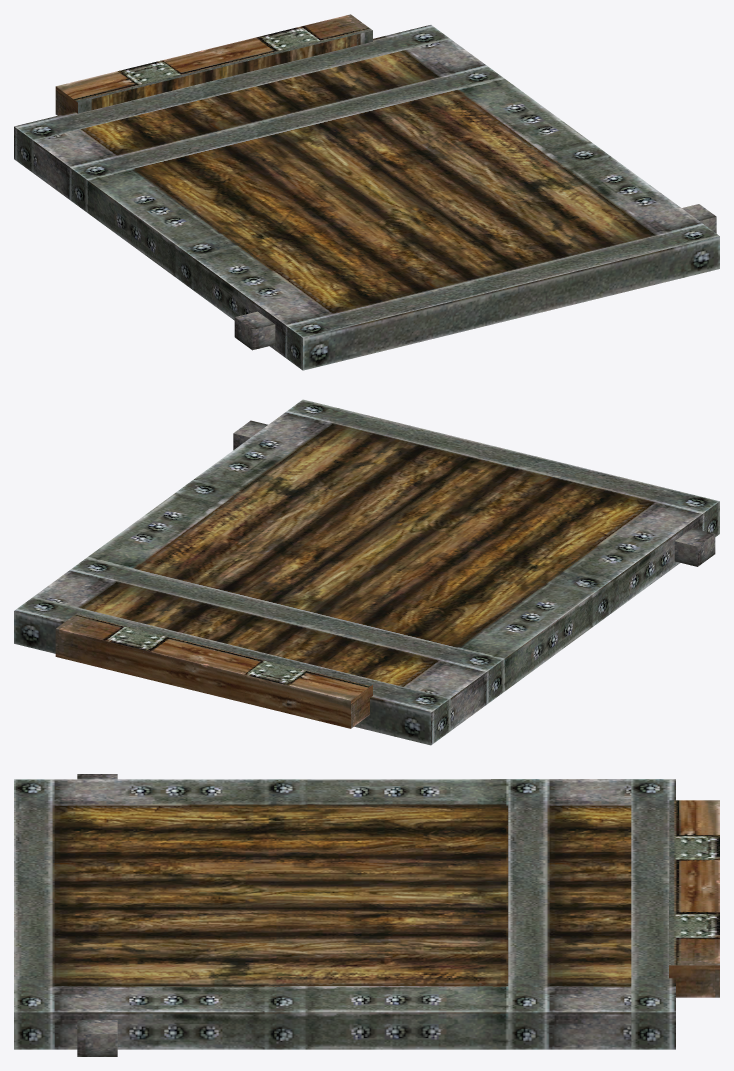
The model's file is hrz50.glb.
The picture shows the model from 3 angles, top to bottom: view 1: azimuth 30°, elevation 25°; view 2: azimuth 150°, elevation 25°; view 3: azimuth 270°, elevation 25°; orthographic projection. The views are drawn at different scales.
Parts seen in each view (by area): view 1: hrz50-col; view 2: hrz50-col; view 3: hrz50-col.
Boxes of the visible parts, box(x1,y1,x2,y2) form: hrz50-col: box(14, 14, 719, 370); hrz50-col: box(14, 399, 719, 745); hrz50-col: box(14, 774, 719, 1056).
Size of the model in its own units: 4.45 by 0.5973 by 5.12.
2 materials, 2 textured.
